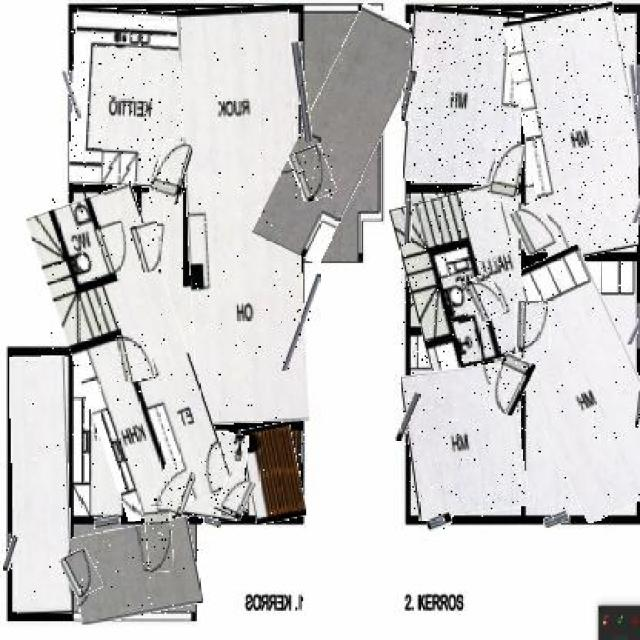door: (488, 354, 530, 414), (153, 140, 190, 205), (292, 146, 332, 200), (514, 201, 554, 254), (491, 142, 523, 203), (154, 466, 192, 516), (117, 332, 154, 382), (146, 508, 174, 572), (517, 300, 551, 352), (62, 551, 100, 597), (132, 222, 165, 272), (468, 274, 502, 320), (218, 476, 252, 518)
window: (291, 272, 312, 372), (296, 42, 310, 143), (631, 65, 640, 169), (400, 391, 415, 442), (66, 71, 79, 120), (403, 72, 415, 121), (428, 512, 452, 530), (95, 514, 120, 531), (631, 304, 640, 344), (7, 535, 16, 571), (545, 514, 569, 526), (406, 199, 412, 243), (632, 195, 640, 223), (203, 517, 220, 529), (635, 389, 640, 428), (298, 432, 304, 463)
zone: (51, 188, 209, 517), (183, 6, 303, 423), (503, 249, 640, 517), (278, 5, 404, 263), (514, 5, 640, 257), (400, 186, 529, 369), (406, 6, 523, 183), (71, 9, 186, 186), (404, 366, 524, 517), (12, 357, 71, 614), (71, 522, 200, 620), (243, 425, 303, 523), (185, 429, 246, 520)
